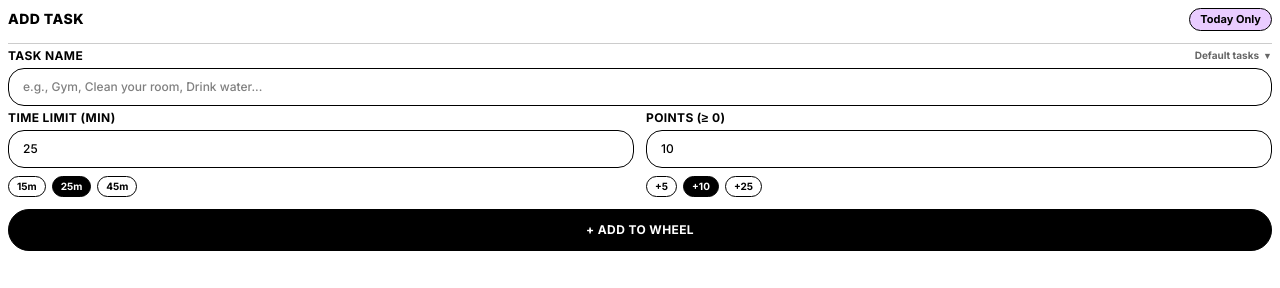
components/TaskForm (spec) › shows inline error for invalid duration
Step 1. Type "Valid Task" into the field labelled "Task Name" → (640, 86), box [8,68,1272,106]
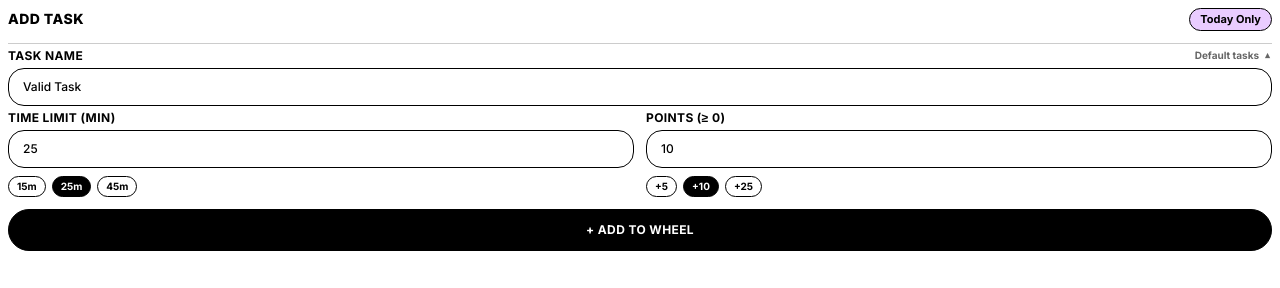
Step 2. Replace the text in the number field labelled "Time Limit (Min)" with "300" → (321, 148), box [8,130,634,168]
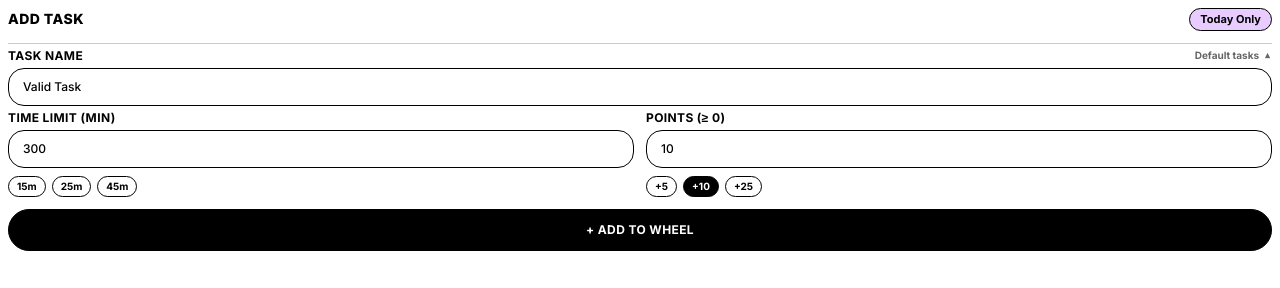
Step 3. Click the button "+ Add to Wheel" → (640, 230), box [8,208,1272,250]
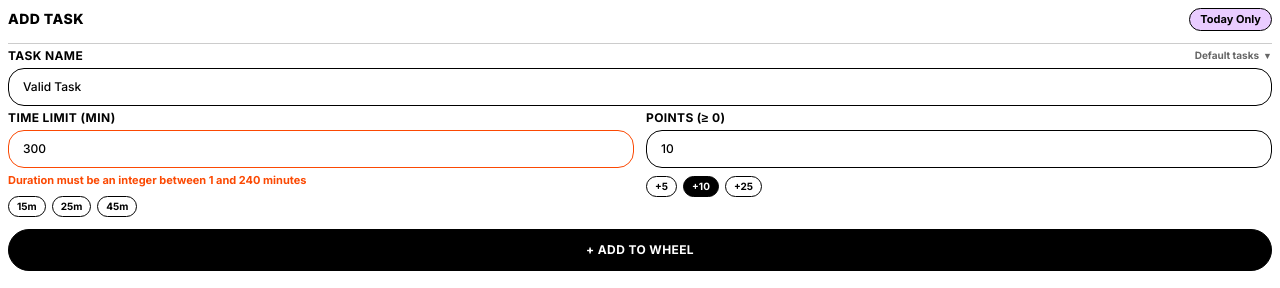
Result: the text "Duration must be an integer between 1 and 240 minutes" is shown at [8,172,306,186]
